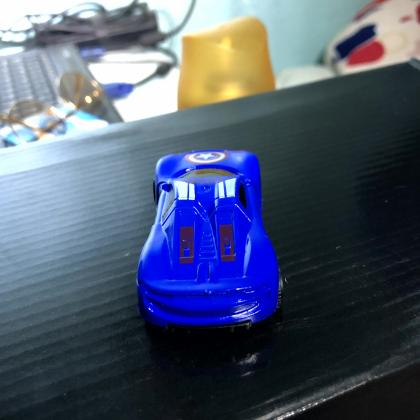Car: (136, 149, 281, 338)
